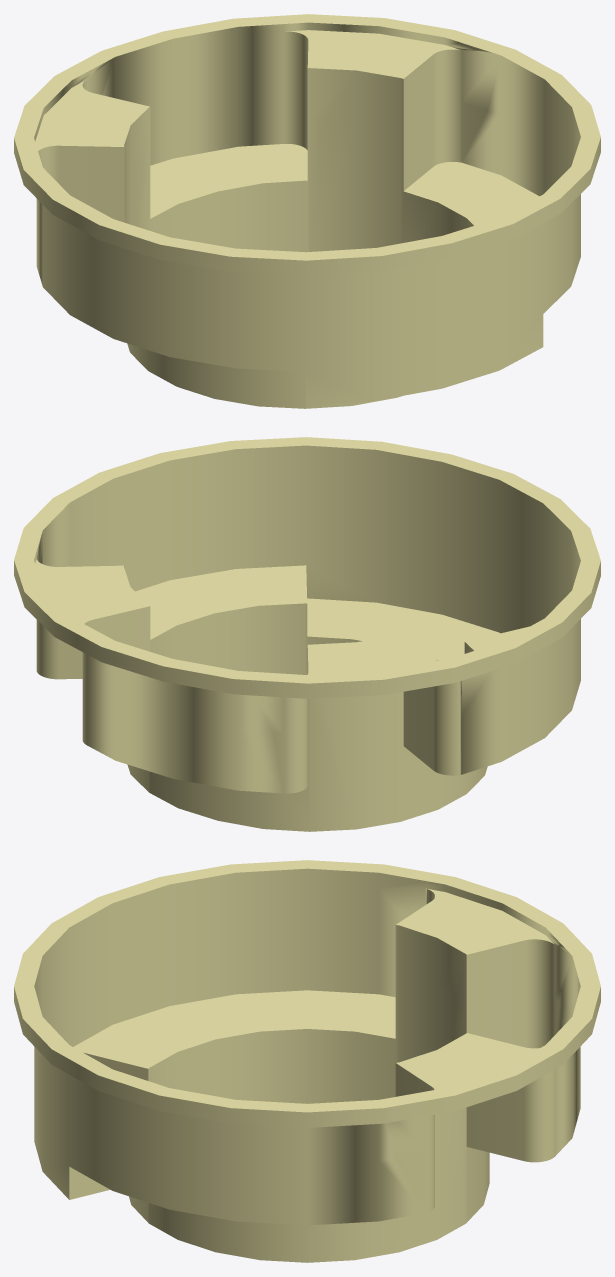
Rendered from ADARA_HUESO.obj.
The picture shows the model from 3 angles, top to bottom: view 1: azimuth 30°, elevation 25°; view 2: azimuth 150°, elevation 25°; view 3: azimuth 270°, elevation 25°; orthographic projection.
Parts seen in each view (by area): view 1: Mesh1 Group1 Model; view 2: Mesh1 Group1 Model; view 3: Mesh1 Group1 Model.
Part boxes in pixels (left/top/right/bottom): Mesh1 Group1 Model: left=14, top=14, right=600, bottom=408; Mesh1 Group1 Model: left=14, top=437, right=600, bottom=831; Mesh1 Group1 Model: left=14, top=860, right=600, bottom=1262.
Size of the model in its own units: 178 by 65 by 175.
